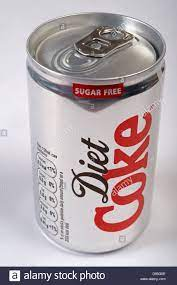can: (20, 9, 163, 255)
